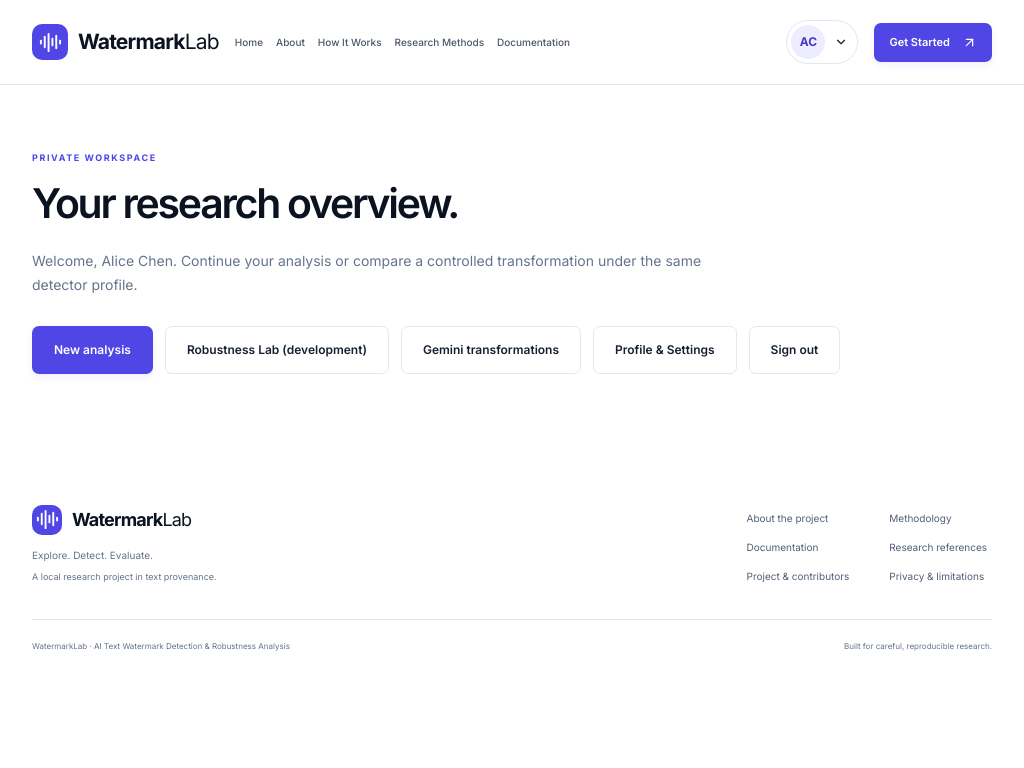
Test: sign out immediately updates header and protected page
Step 1. Click the button with aria-label "Account menu" → (822, 42), box [786,20,858,64]
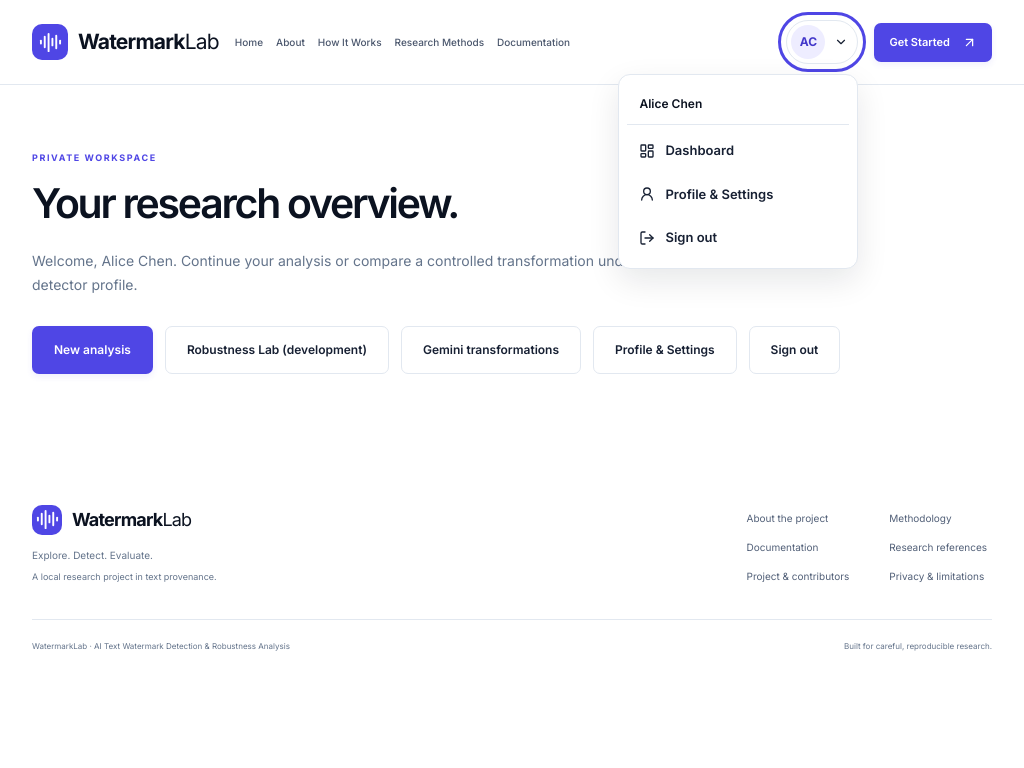
Step 2. Click the button "Sign out" below "Dashboard" → (738, 238), box [628,216,850,260]
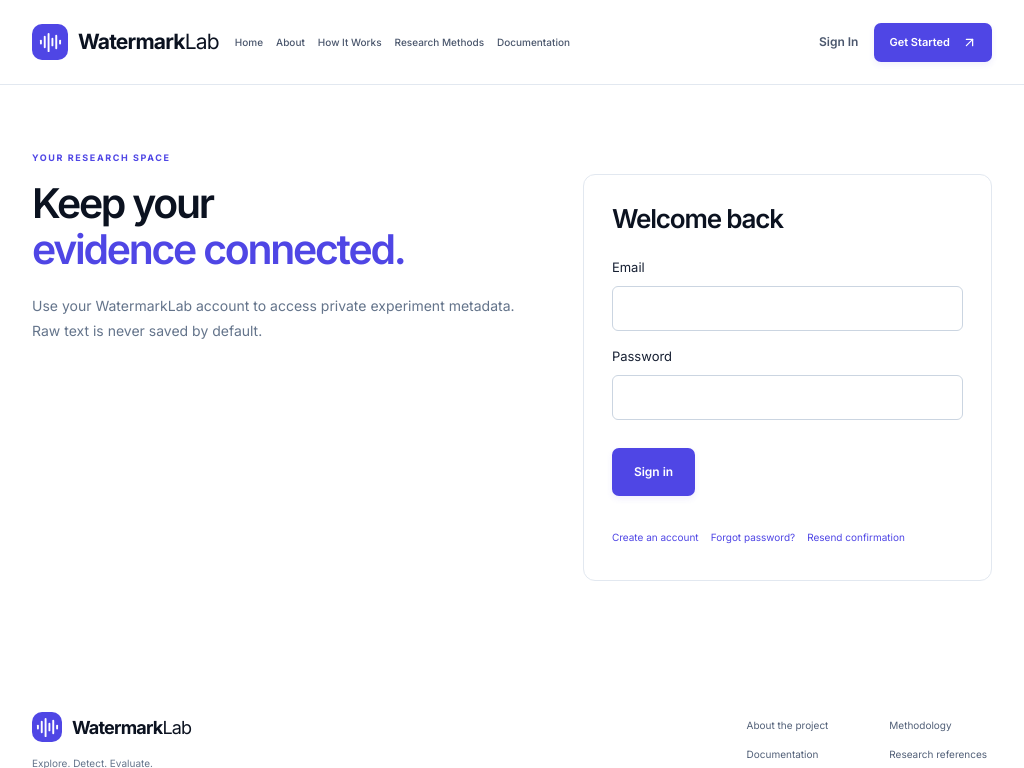
Expected: the heading "Welcome back" is shown, [612,203,783,234]
Expected: the link "Sign In" is shown, [819,34,858,49]
